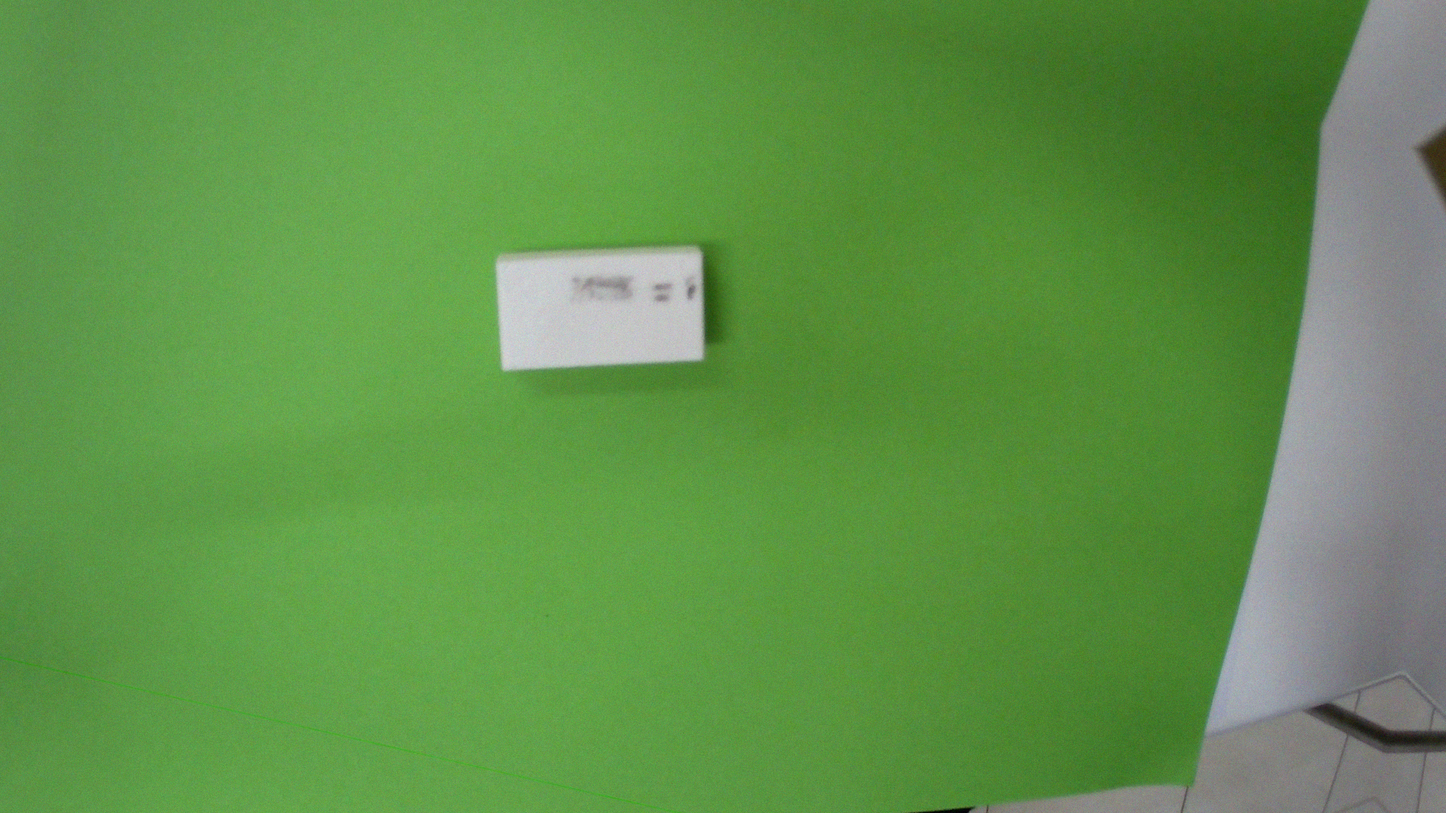gom: (471, 199, 741, 416)
